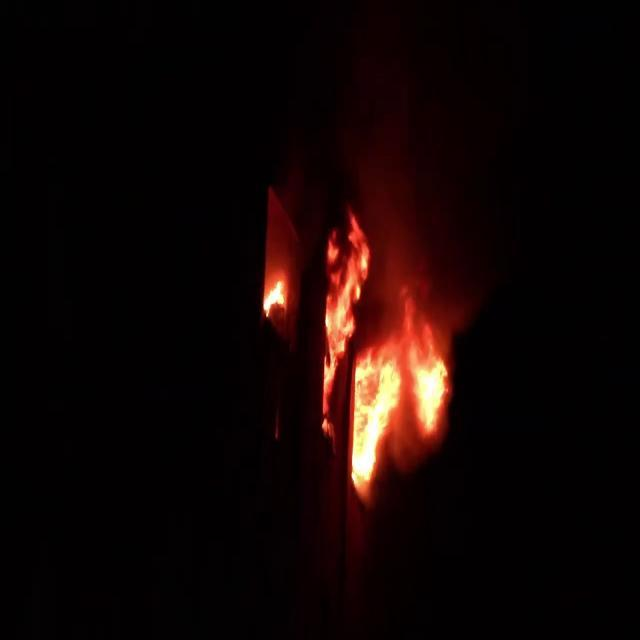Fire: (351, 289, 452, 489), (261, 263, 289, 325)
